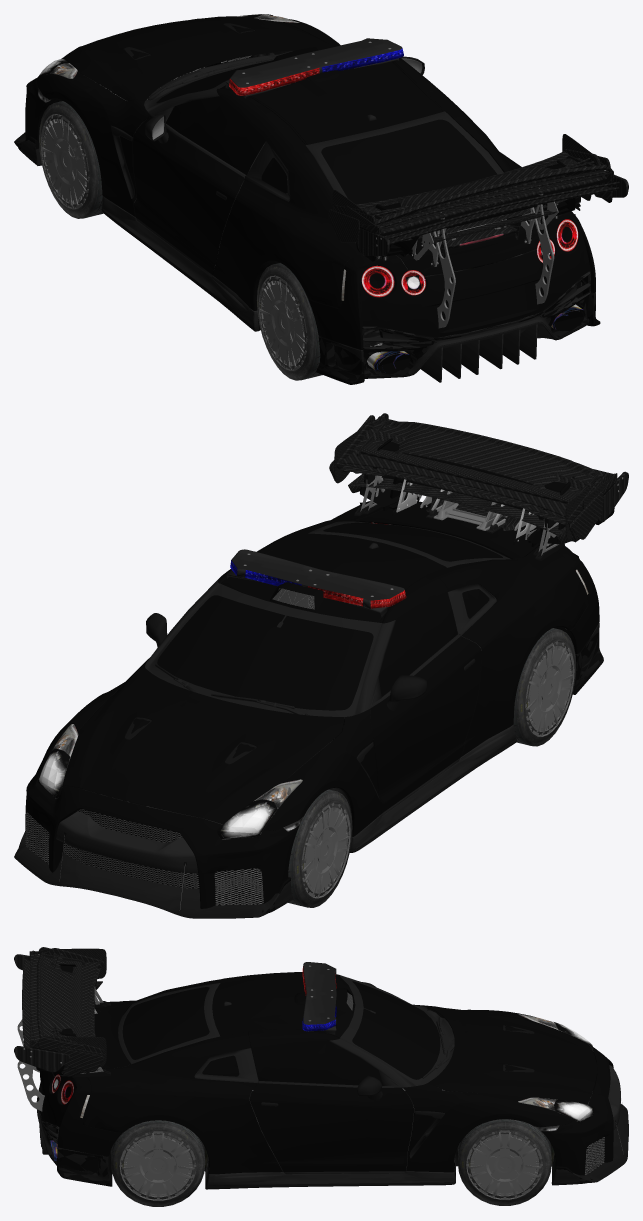
File: GTR.fbx
The picture shows the model from 3 angles, top to bottom: view 1: azimuth 30°, elevation 25°; view 2: azimuth 150°, elevation 25°; view 3: azimuth 270°, elevation 25°; orthographic projection. The views are drawn at different scales.
Visible parts, largest first — view 1: GTR, RearBumper, RearBumper2, Hood1, Hood2, Spoiler7, Scope3_PoliceLight, RearBumper3, Spoiler5, SideSkirt, Spoiler10, W1 (+18 smaller); view 2: GTR, FrontBumper3, Hood1, Hood2, FrontBumper1, Spoiler10, Scope3_PoliceLight, Spoiler4, SideSkirt, Spoiler9, W1, W1_001 (+11 smaller); view 3: GTR, Hood1, Hood2, FrontBumper3, SideSkirt, W1_003, W1_002, RearBumper2, RearBumper, Spoiler10, FrontBumper1, Scope3_PoliceLight (+18 smaller).
Boxes of the visible parts, bbox=[...] form: GTR: bbox=[37, 15, 592, 346]; RearBumper: bbox=[312, 212, 599, 384]; RearBumper2: bbox=[308, 211, 600, 384]; Hood1: bbox=[64, 16, 334, 100]; Hood2: bbox=[63, 16, 334, 100]; Spoiler7: bbox=[360, 168, 612, 328]; Scope3_PoliceLight: bbox=[225, 38, 403, 98]; RearBumper3: bbox=[408, 317, 558, 382]; Spoiler5: bbox=[356, 174, 628, 266]; SideSkirt: bbox=[101, 196, 259, 331]; Spoiler10: bbox=[355, 156, 610, 261]; W1: bbox=[40, 101, 103, 218]; GTR: bbox=[37, 501, 588, 839]; FrontBumper3: bbox=[14, 770, 299, 918]; Hood1: bbox=[63, 674, 344, 824]; Hood2: bbox=[63, 668, 343, 824]; FrontBumper1: bbox=[18, 772, 299, 912]; Spoiler10: bbox=[354, 415, 610, 546]; Scope3_PoliceLight: bbox=[226, 549, 406, 617]; Spoiler4: bbox=[334, 426, 595, 556]; SideSkirt: bbox=[349, 725, 517, 852]; Spoiler9: bbox=[357, 422, 598, 530]; W1: bbox=[288, 789, 351, 907]; W1_001: bbox=[513, 628, 574, 745]; GTR: bbox=[53, 972, 593, 1186]; Hood1: bbox=[428, 1008, 597, 1103]; Hood2: bbox=[428, 1006, 597, 1104]; FrontBumper3: bbox=[541, 1044, 628, 1185]; SideSkirt: bbox=[205, 1078, 455, 1189]; W1_003: bbox=[458, 1119, 551, 1201]; W1_002: bbox=[111, 1120, 205, 1201]; RearBumper2: bbox=[38, 1068, 117, 1186]; RearBumper: bbox=[38, 1068, 122, 1185]; Spoiler10: bbox=[37, 947, 83, 1050]; FrontBumper1: bbox=[541, 1044, 620, 1185]; Scope3_PoliceLight: bbox=[302, 962, 336, 1034].
Size of the model in its own units: 1.48 by 1.11 by 3.67.
